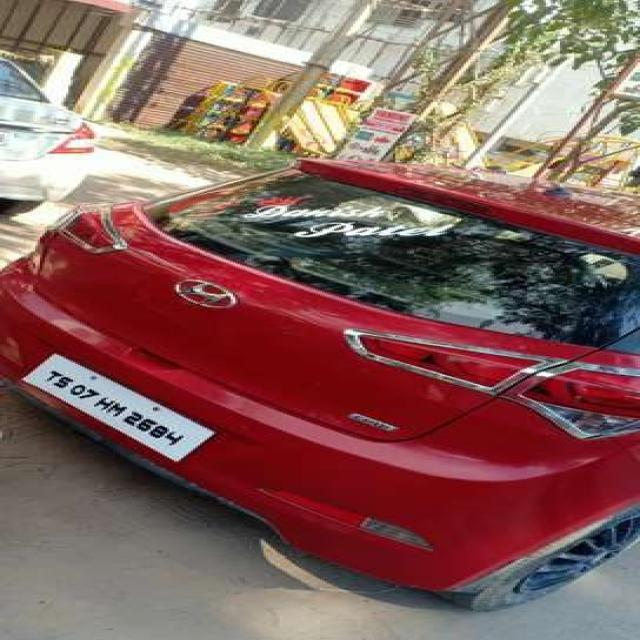licenseplate: (19, 350, 216, 463)
